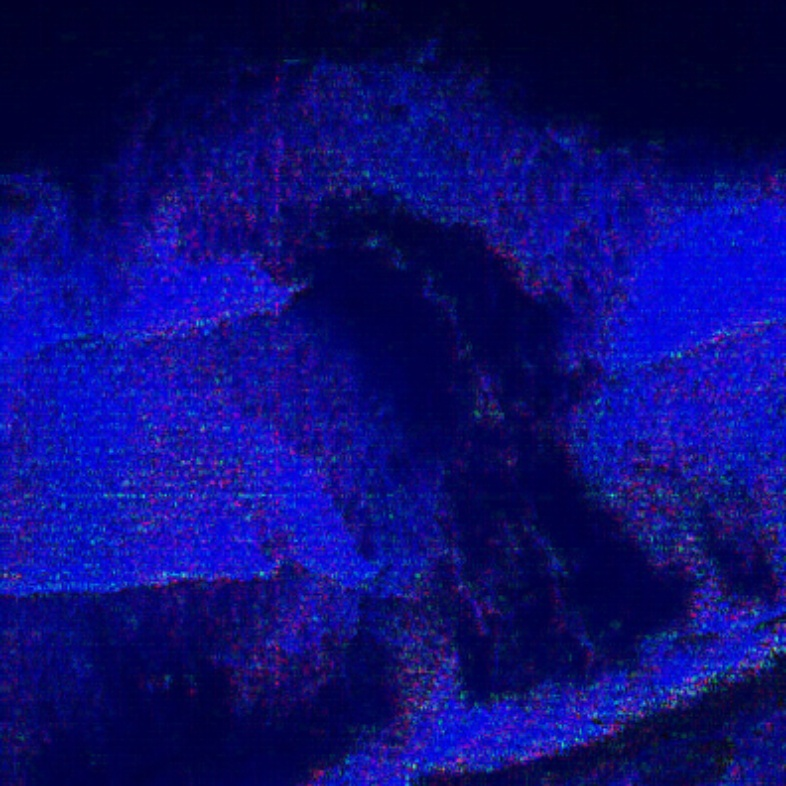rip_current: (172, 140, 718, 682)
